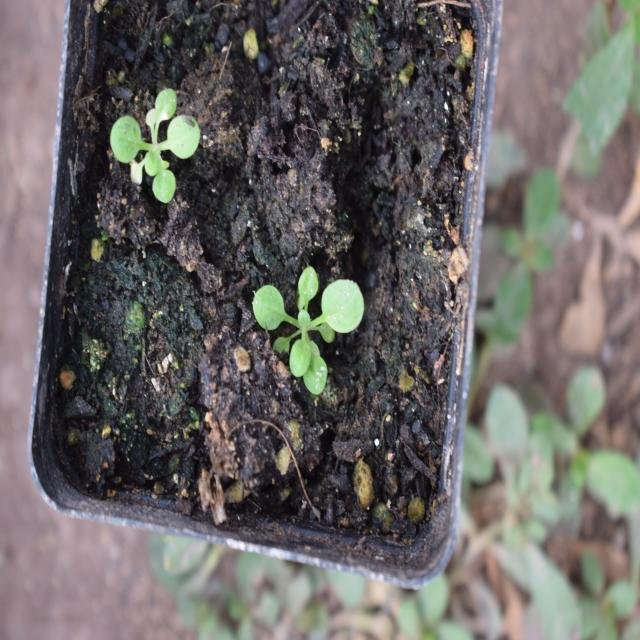Shepherd_Purse: (234, 249, 387, 409), (112, 98, 200, 210)
